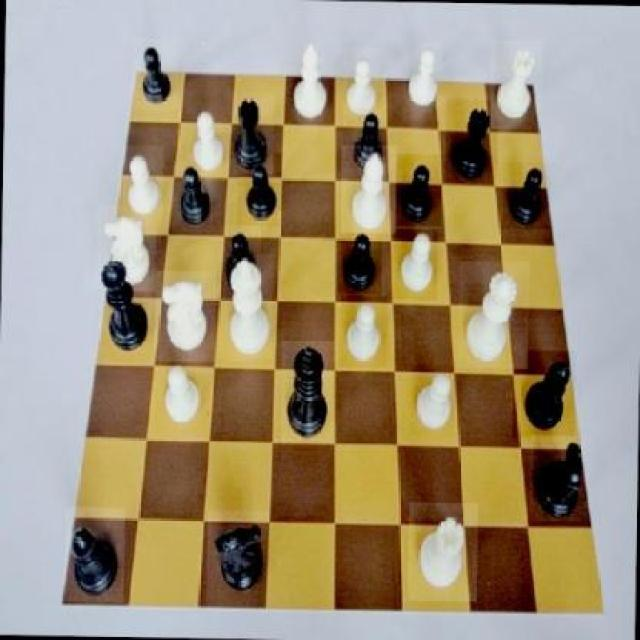bishop: (66, 508, 126, 603), (512, 351, 576, 440)
black-bishop: (280, 340, 334, 442)
black-king: (206, 511, 269, 612), (530, 436, 592, 522)
black-knight: (392, 154, 442, 226), (132, 38, 178, 112), (237, 152, 281, 228), (502, 162, 550, 229), (344, 109, 390, 177), (338, 224, 382, 294), (171, 160, 213, 233), (220, 224, 260, 292)
black-pawn: (92, 248, 155, 364)
black-queen: (444, 99, 498, 188), (224, 90, 274, 174)
black-rook: (340, 144, 397, 233), (283, 38, 335, 125)
white-bishop: (218, 254, 274, 360)
white-king: (154, 270, 216, 362), (96, 205, 156, 292)
white-knight: (154, 350, 206, 432), (338, 296, 388, 368), (121, 144, 164, 224), (410, 366, 456, 437), (403, 39, 443, 120), (186, 106, 229, 179), (394, 229, 438, 299), (342, 48, 378, 128)
white-pawn: (457, 262, 529, 369)
white-queen: (408, 502, 478, 600), (491, 40, 543, 131)
